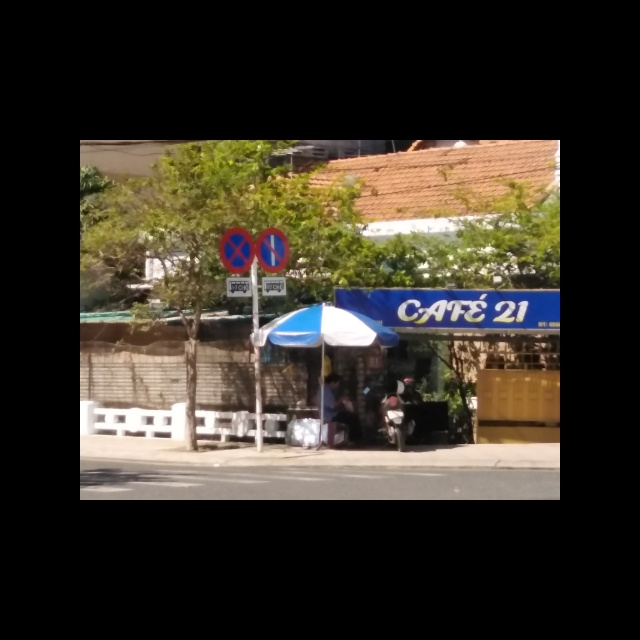Cấm dừng xe và đỗ xe: (220, 228, 255, 273)
Cấm đỗ xe ngày lẻ: (257, 227, 291, 273)
